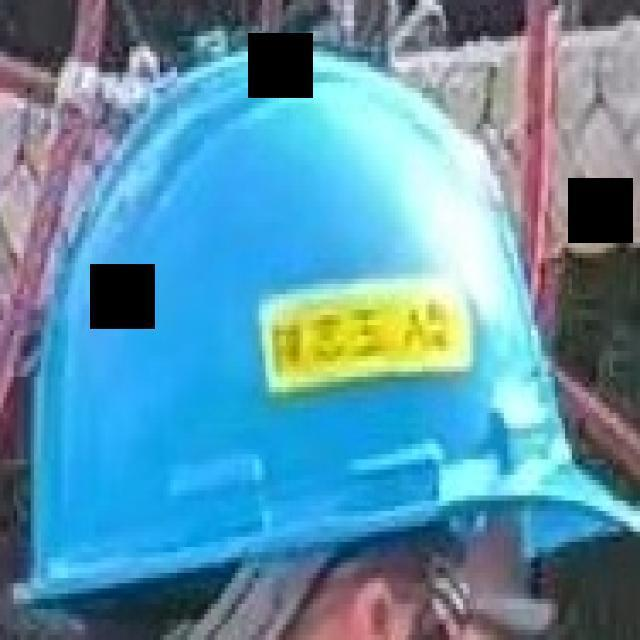blue helmet: (10, 59, 632, 618)
